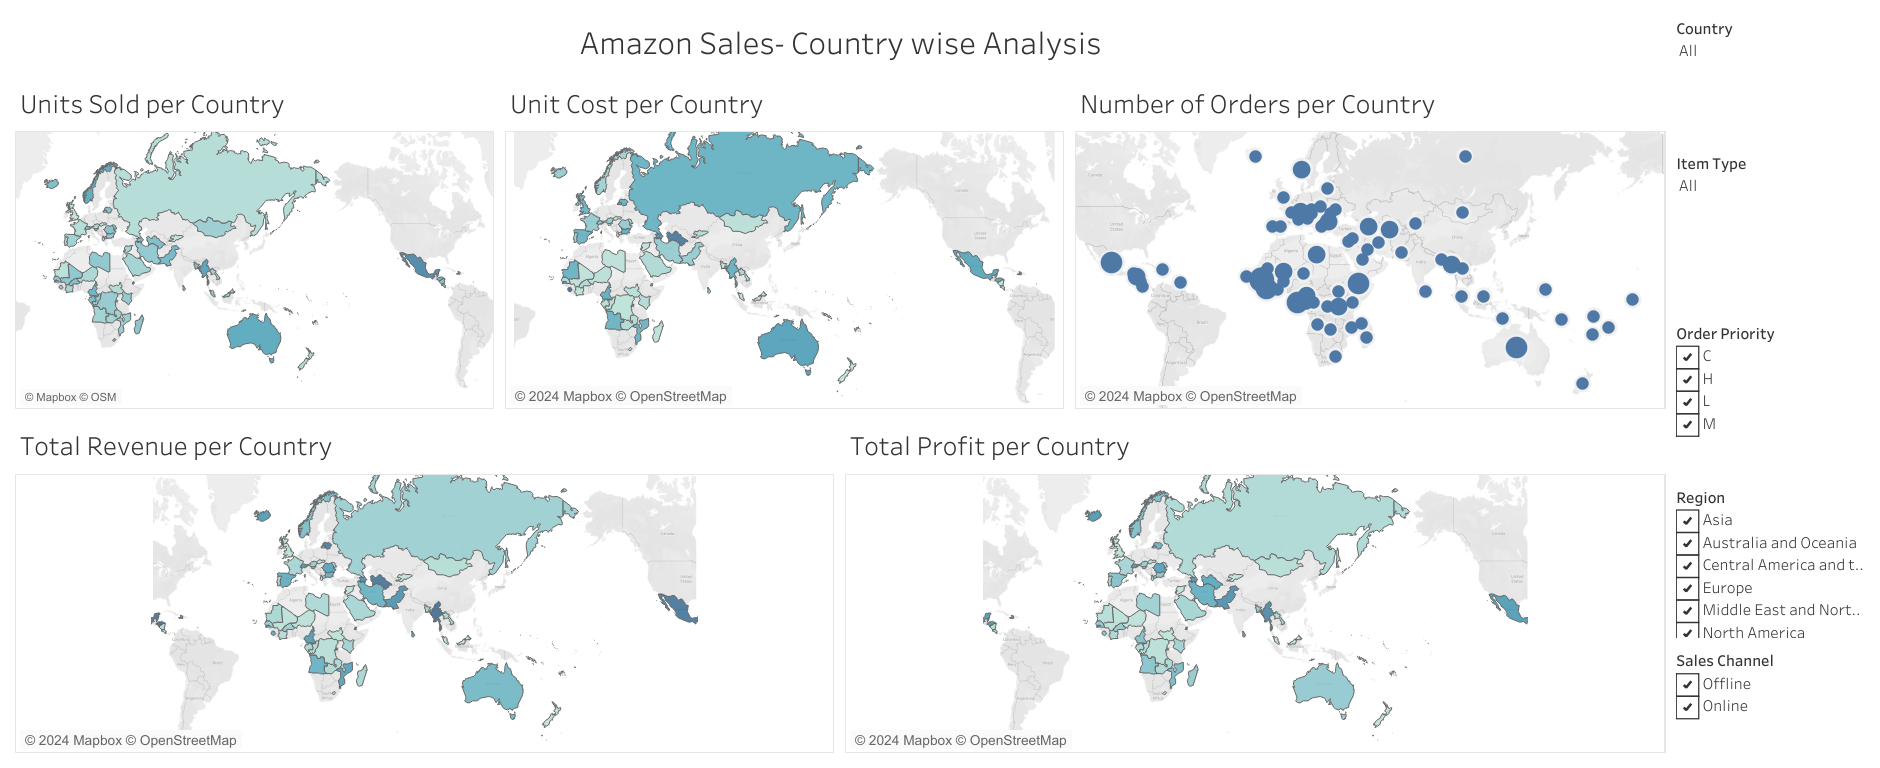

Layout of this report page (visuals, bound fields, positions):
{"tool":"tableau","page":{"name":"Amazon Sales- Country wise Analysis","canvas":[1000,1000],"units":"permille","ordinal":0},"visuals":[{"type":"title","box":[4.8,10,893.8,62.4]},{"type":"filter","title":"Units Sold per Country","param":"[federated.1z01n5t024iz7p15iogyr0p1gq9p].[none:Country:nk]","box":[898.6,10,96.6,134.8]},{"type":"worksheet","title":"Units Sold per Country","mark":"Automatic","box":[4.8,72.4,263.6,458.8]},{"type":"worksheet","title":"Unit Cost per Country","mark":"Automatic","box":[268.4,72.4,306.6,458.8]},{"type":"worksheet","title":"Number of Orders per Country","mark":"Automatic","box":[575.1,72.4,323.6,458.8]},{"type":"filter","title":"Units Sold per Country","param":"[federated.1z01n5t024iz7p15iogyr0p1gq9p].[none:Item Type:nk]","box":[898.6,144.8,96.6,169.8]},{"type":"filter","title":"Units Sold per Country","param":"[federated.1z01n5t024iz7p15iogyr0p1gq9p].[none:Order Priority:nk]","box":[898.6,314.6,96.6,188.5]},{"type":"filter","title":"Units Sold per Country","param":"[federated.1z01n5t024iz7p15iogyr0p1gq9p].[none:Region:nk]","box":[898.6,503.1,96.6,274.7]},{"type":"worksheet","title":"Total Revenue per Country","mark":"Automatic","box":[4.8,531.2,446.9,458.8]},{"type":"worksheet","title":"Total Profit per Country","mark":"Automatic","box":[451.7,531.2,446.9,458.8]},{"type":"filter","title":"Units Sold per Country","param":"[federated.1z01n5t024iz7p15iogyr0p1gq9p].[none:Sales Channel:nk]","box":[898.6,777.8,96.6,131.1]}]}

Visuals, with their boxes on the dashboard's canvas, which has no fixed pixel size, in thousandths of its width and height (x1, y1, x2, y2). These are canvas units, not pixel positions in the 1880x768 screenshot, which may show the page scaled, cropped or inside an application window:
title: x1=5, y1=10, x2=899, y2=72
"Units Sold per Country" filter: x1=899, y1=10, x2=995, y2=145
"Units Sold per Country" worksheet: x1=5, y1=72, x2=268, y2=531
"Unit Cost per Country" worksheet: x1=268, y1=72, x2=575, y2=531
"Number of Orders per Country" worksheet: x1=575, y1=72, x2=899, y2=531
"Units Sold per Country" filter: x1=899, y1=145, x2=995, y2=315
"Units Sold per Country" filter: x1=899, y1=315, x2=995, y2=503
"Units Sold per Country" filter: x1=899, y1=503, x2=995, y2=778
"Total Revenue per Country" worksheet: x1=5, y1=531, x2=452, y2=990
"Total Profit per Country" worksheet: x1=452, y1=531, x2=899, y2=990
"Units Sold per Country" filter: x1=899, y1=778, x2=995, y2=909
